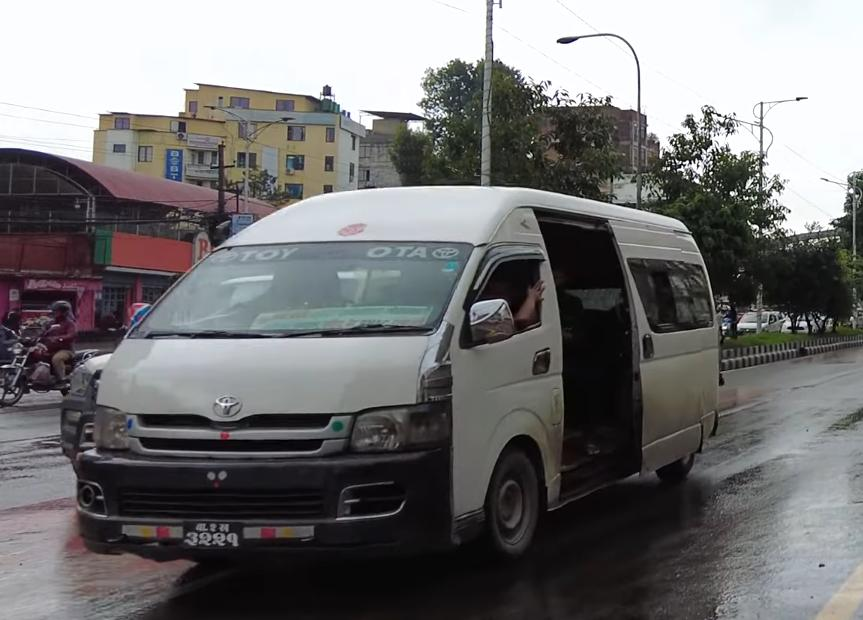bike: (0, 337, 90, 412)
micro_bus: (64, 169, 725, 570)
